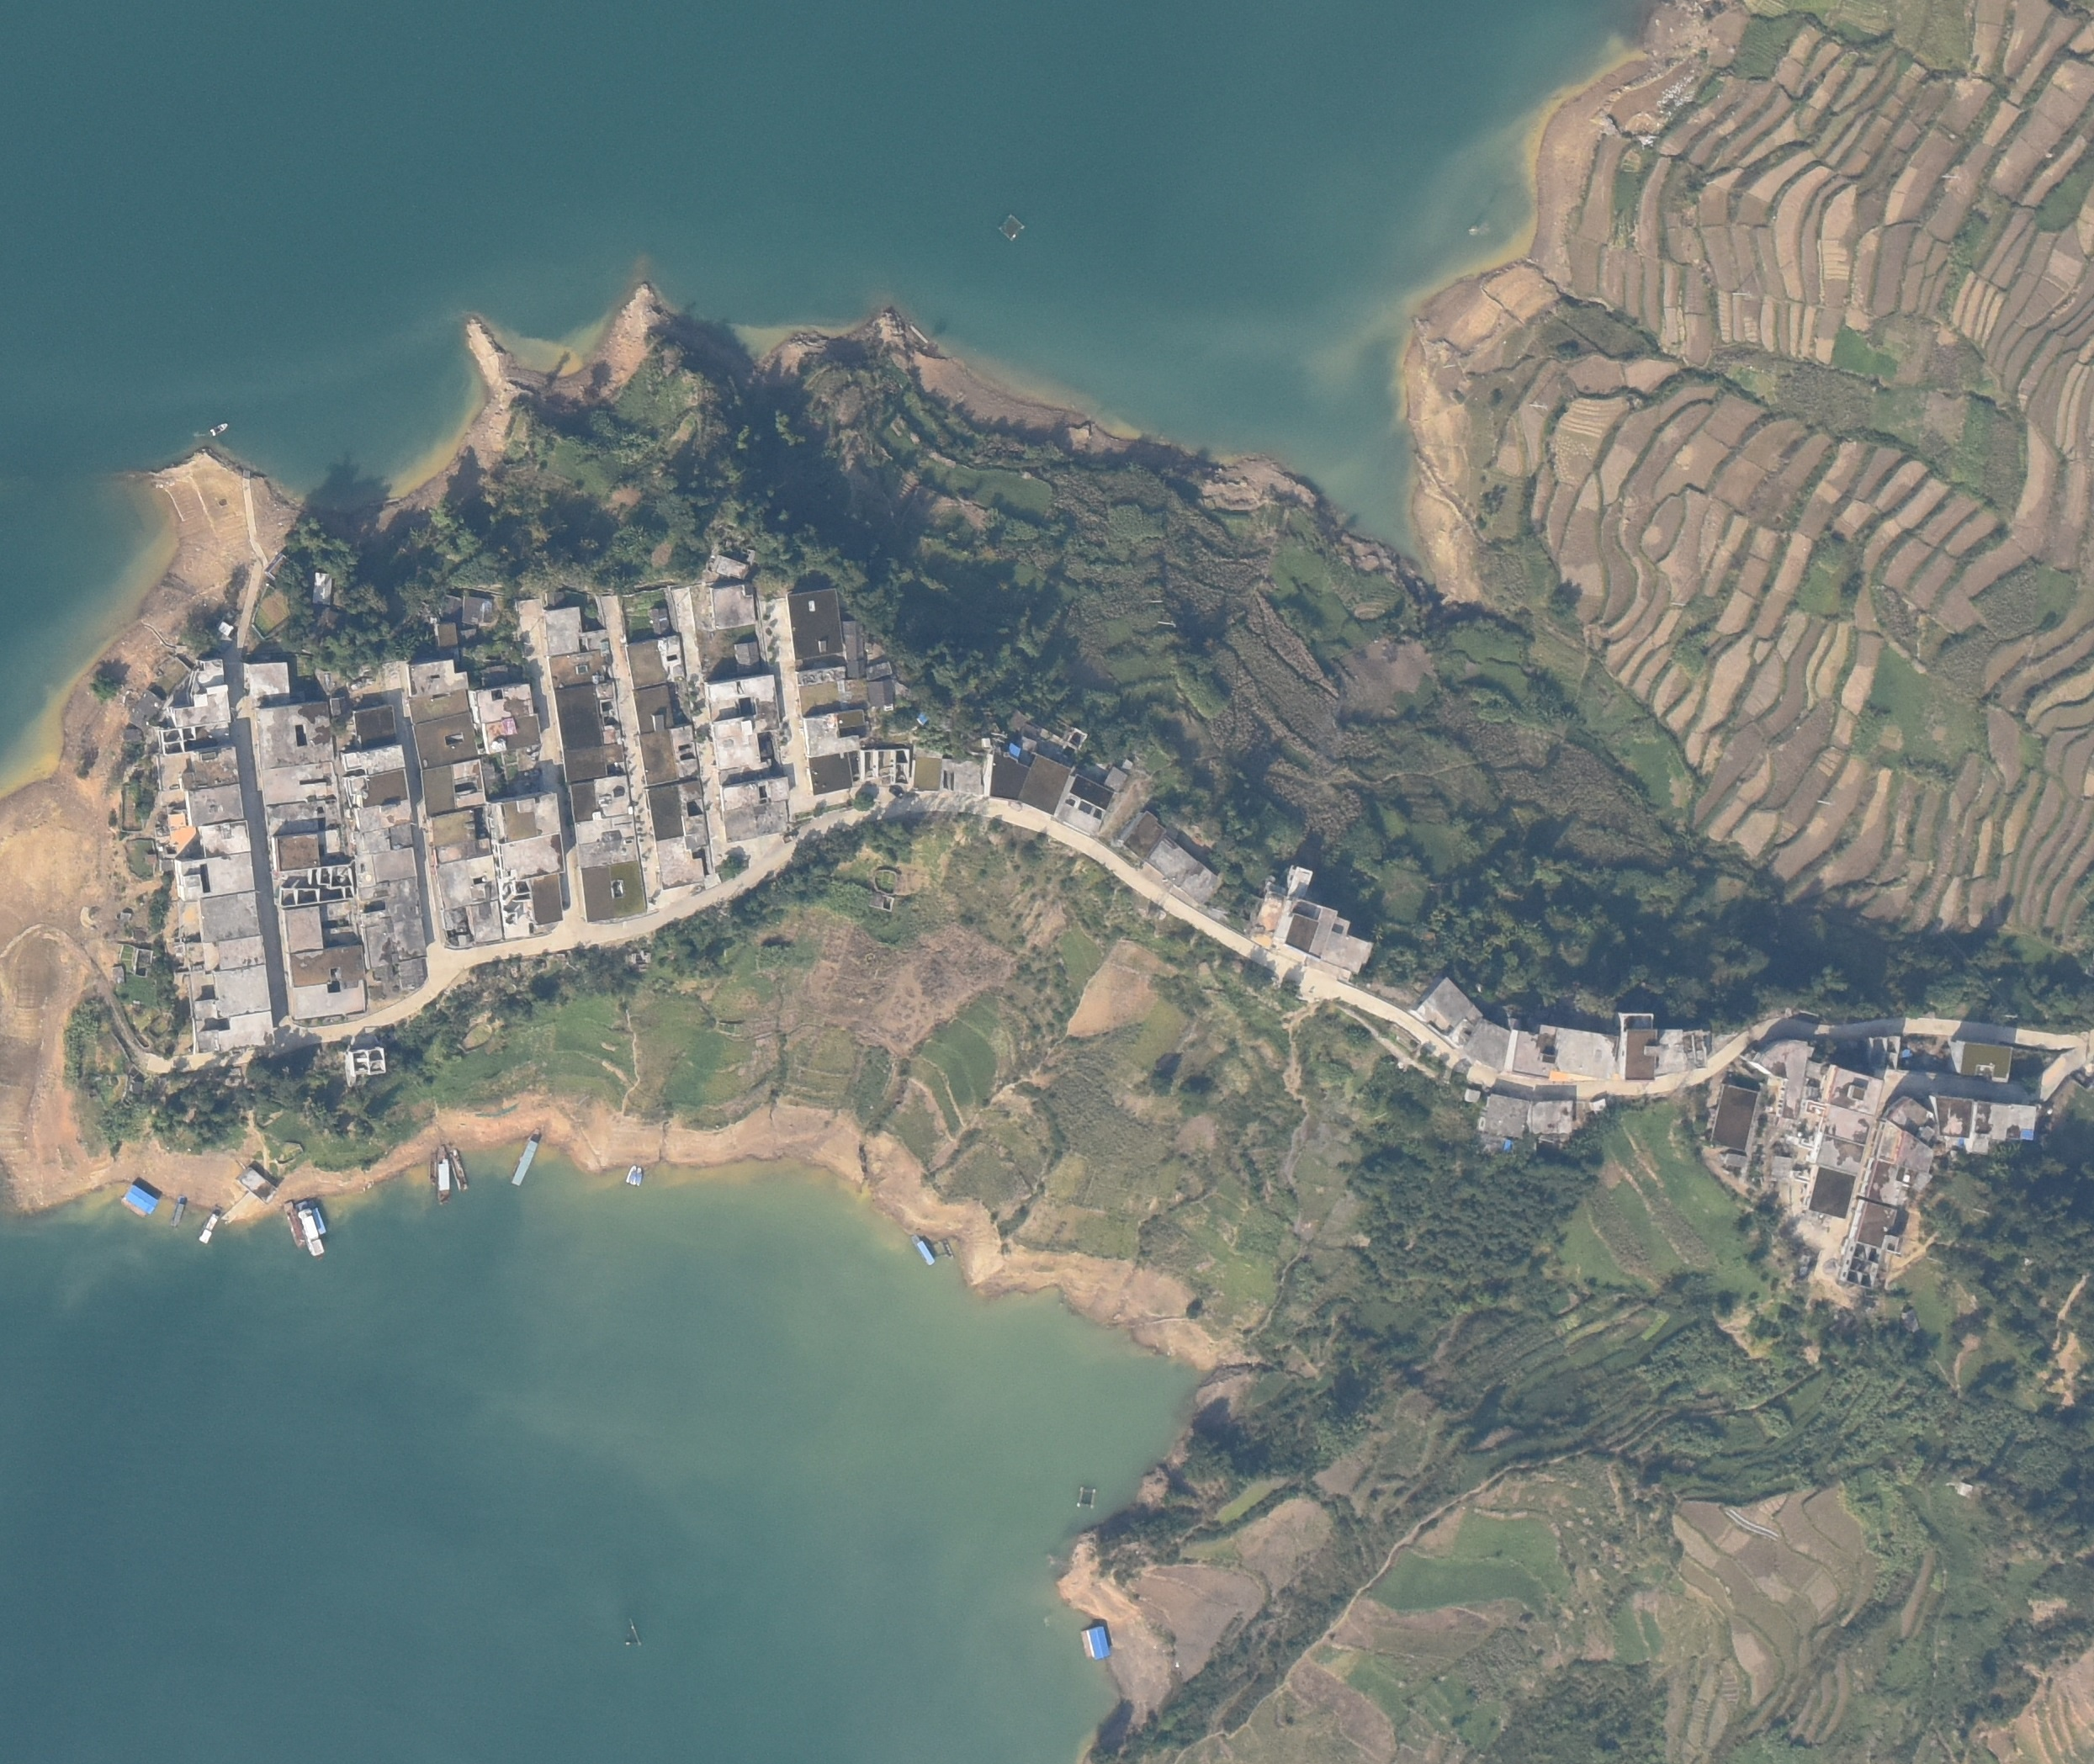building: (1254, 865, 1372, 980), (554, 685, 621, 782), (648, 781, 708, 889), (1934, 1094, 2038, 1154), (575, 776, 638, 866), (361, 880, 427, 965), (290, 947, 369, 1018), (409, 691, 479, 770), (1147, 834, 1222, 906), (256, 703, 335, 769), (803, 710, 860, 796), (473, 680, 540, 751), (720, 777, 789, 844), (706, 675, 778, 734), (169, 660, 231, 728), (188, 967, 272, 1017), (342, 745, 409, 806), (788, 587, 844, 659), (177, 852, 255, 901), (583, 861, 644, 921), (1417, 977, 1471, 1044), (491, 792, 562, 842), (423, 761, 486, 817), (1556, 1026, 1621, 1078), (640, 727, 699, 785), (1054, 776, 1112, 834), (430, 808, 491, 864), (260, 763, 338, 806), (434, 856, 496, 908), (156, 749, 239, 788), (270, 829, 347, 872), (1712, 1082, 1757, 1151), (1822, 1065, 1883, 1116), (192, 1013, 275, 1050), (1019, 755, 1069, 815), (713, 732, 770, 785), (626, 640, 685, 690), (499, 833, 564, 877), (199, 893, 259, 940), (353, 806, 414, 852), (1877, 1122, 1934, 1171), (1945, 1041, 2013, 1081), (1620, 1012, 1658, 1082), (1807, 1168, 1856, 1220), (1508, 1025, 1555, 1078), (445, 903, 502, 946), (1657, 1029, 1711, 1075), (187, 784, 246, 824), (1462, 1020, 1508, 1071), (1119, 812, 1164, 864), (266, 800, 342, 831), (1820, 1103, 1875, 1144), (631, 684, 675, 733), (408, 661, 469, 696), (244, 660, 288, 707), (710, 585, 758, 628), (1886, 1096, 1934, 1139), (549, 650, 604, 687), (987, 754, 1031, 799), (544, 606, 585, 654), (282, 907, 326, 951), (1853, 1203, 1896, 1248), (354, 704, 400, 745), (1816, 1135, 1864, 1173), (1482, 1096, 1527, 1137), (1860, 1160, 1901, 1205), (199, 821, 252, 856), (529, 873, 565, 924), (1528, 1100, 1576, 1136), (218, 936, 267, 971), (370, 850, 417, 884), (236, 1166, 273, 1204), (437, 594, 483, 625), (867, 662, 896, 708), (844, 620, 866, 679), (432, 622, 462, 659), (912, 757, 942, 792), (734, 640, 761, 675), (398, 958, 427, 990), (713, 554, 748, 580), (312, 572, 334, 606), (1103, 765, 1128, 793), (650, 606, 672, 636), (1902, 1311, 1919, 1335), (544, 590, 566, 608), (1722, 1152, 1746, 1168), (330, 697, 348, 717), (167, 812, 187, 828), (217, 621, 233, 636), (1591, 1098, 1606, 1111), (1465, 1089, 1480, 1102)
cultivation-mesh-cage: (999, 215, 1026, 239), (1078, 1487, 1095, 1507)
prefabricated-house: (120, 1186, 159, 1219), (1081, 1625, 1111, 1659), (1007, 744, 1022, 760)
ship: (284, 1199, 329, 1254), (512, 1128, 540, 1185), (430, 1146, 449, 1205), (450, 1147, 470, 1193), (909, 1232, 936, 1266), (198, 1210, 219, 1243), (172, 1195, 187, 1230), (627, 1163, 643, 1186), (209, 423, 230, 437)
